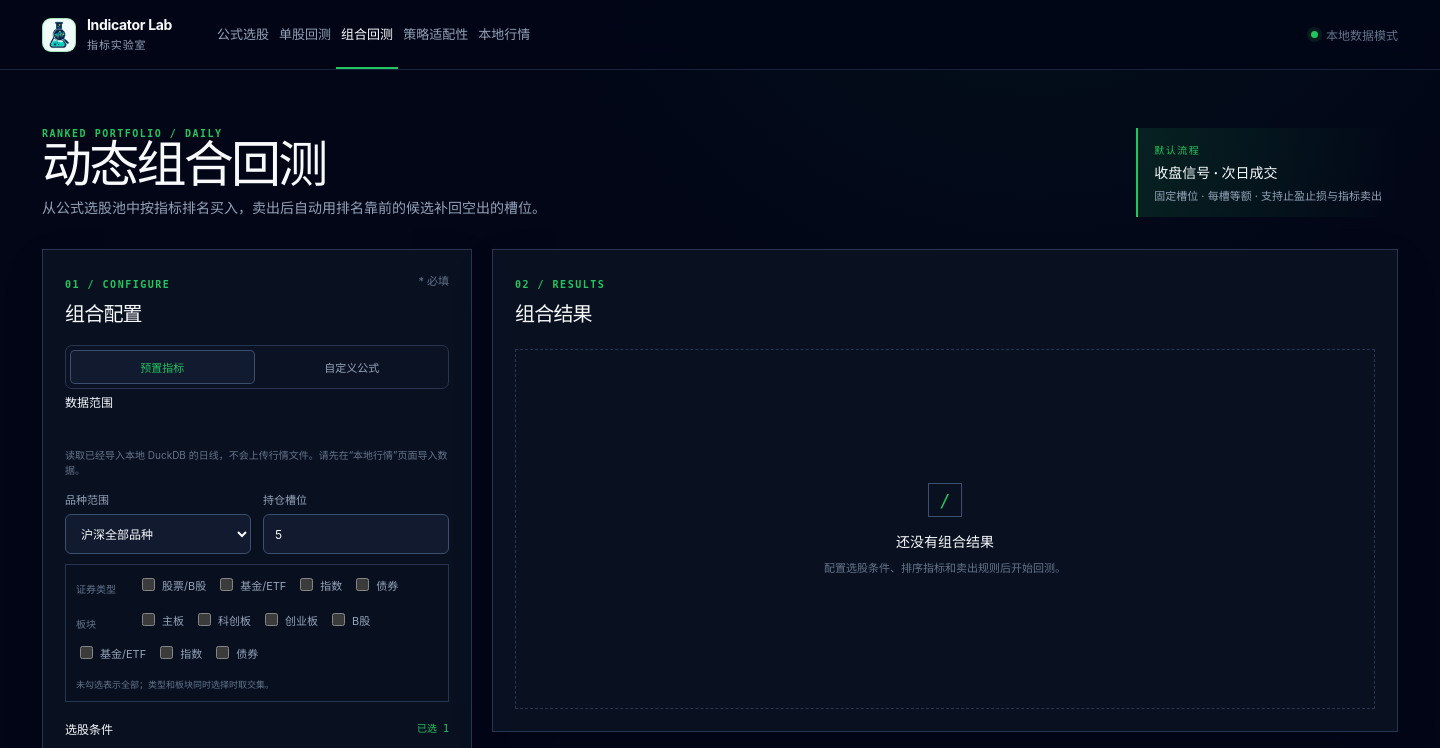
Test: PortfolioBacktestPage › parses custom formula outputs and invalidates selections after editing
Click the tab with test id "portfolio-mode-custom" at coordinates (352, 367), box [260,350,444,384]
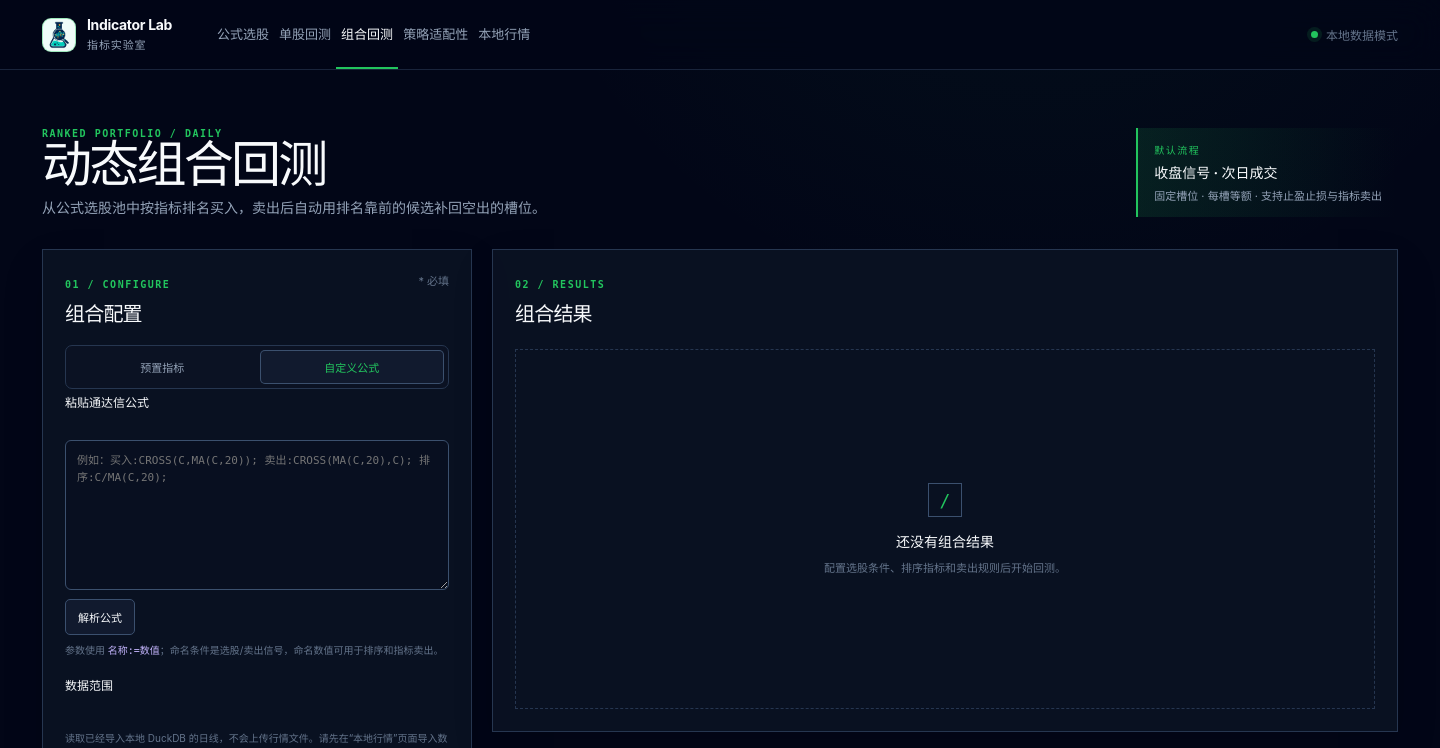
Replace the text in the text box with test id "portfolio-formula" with "N:=5; 买入:C>10; 卖出:C<10; 排序:C;" at coordinates (257, 515), box [65,440,449,590]
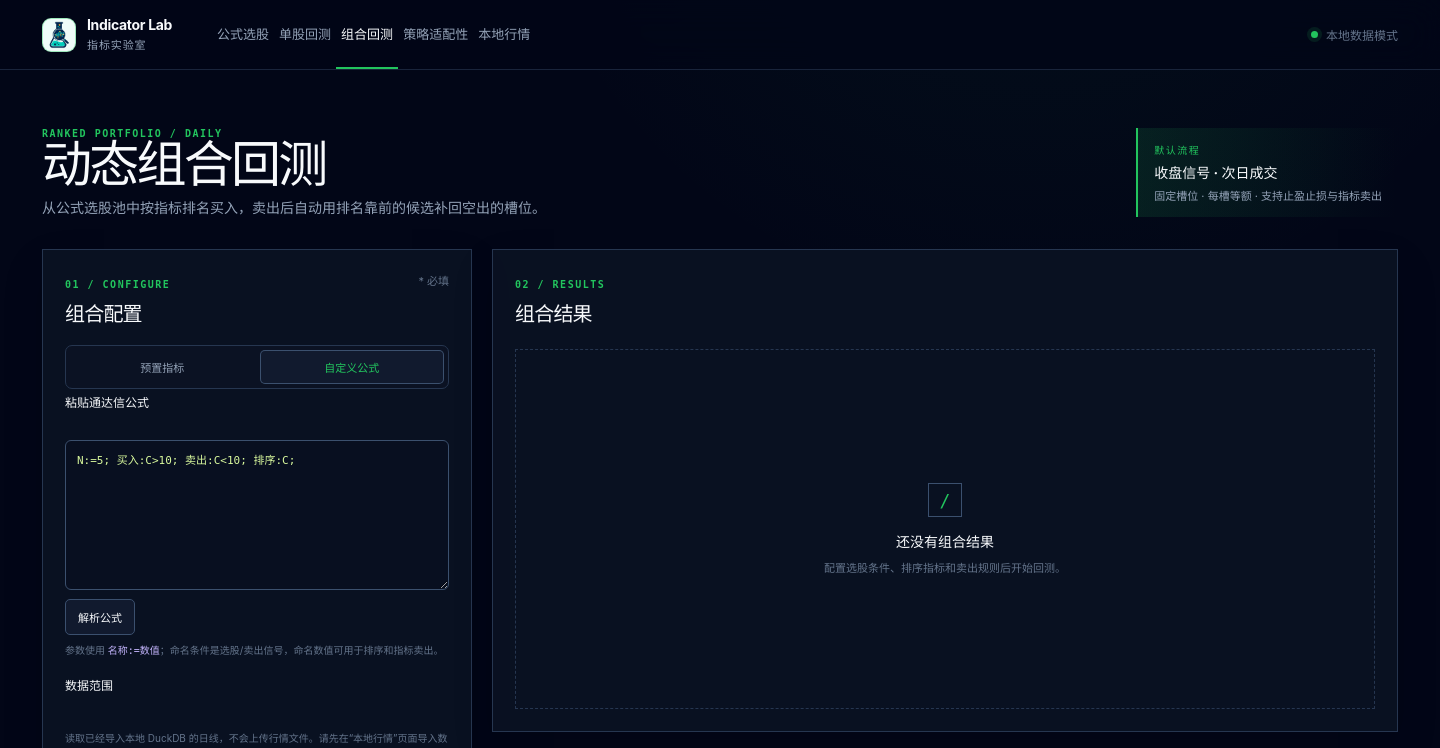
Click the button with test id "portfolio-parse-formula" at coordinates (100, 617), box [65,599,135,635]
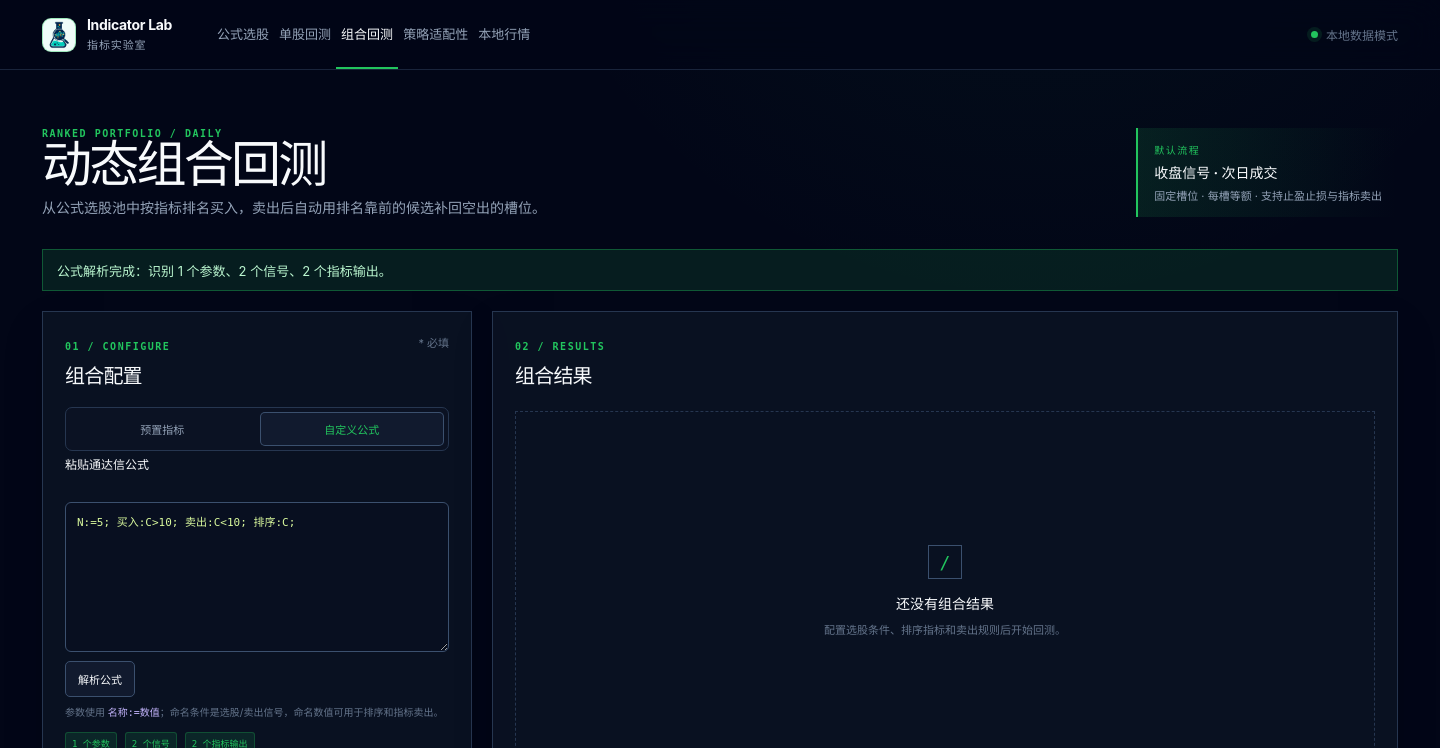
Replace the text in the text box with test id "portfolio-formula" with "N:=8; 买入:C>10; 卖出:C<10; 排序:C;" at coordinates (257, 577), box [65,502,449,652]
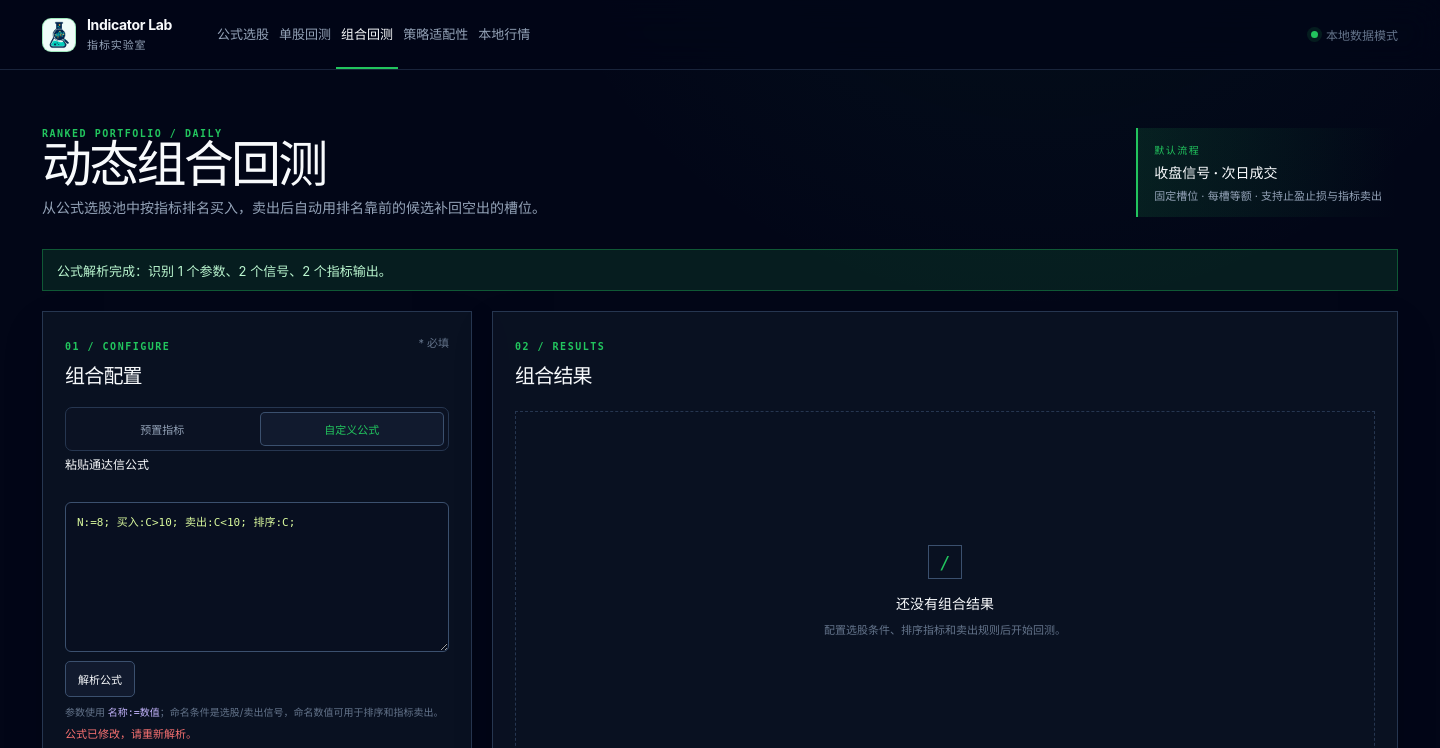
Result: the text "公式已修改，请重新解析" is shown at [65,727,197,741]
Click the tab with test id "portfolio-mode-preset" at coordinates (162, 429), box [70,412,254,446]
(page scrolled)
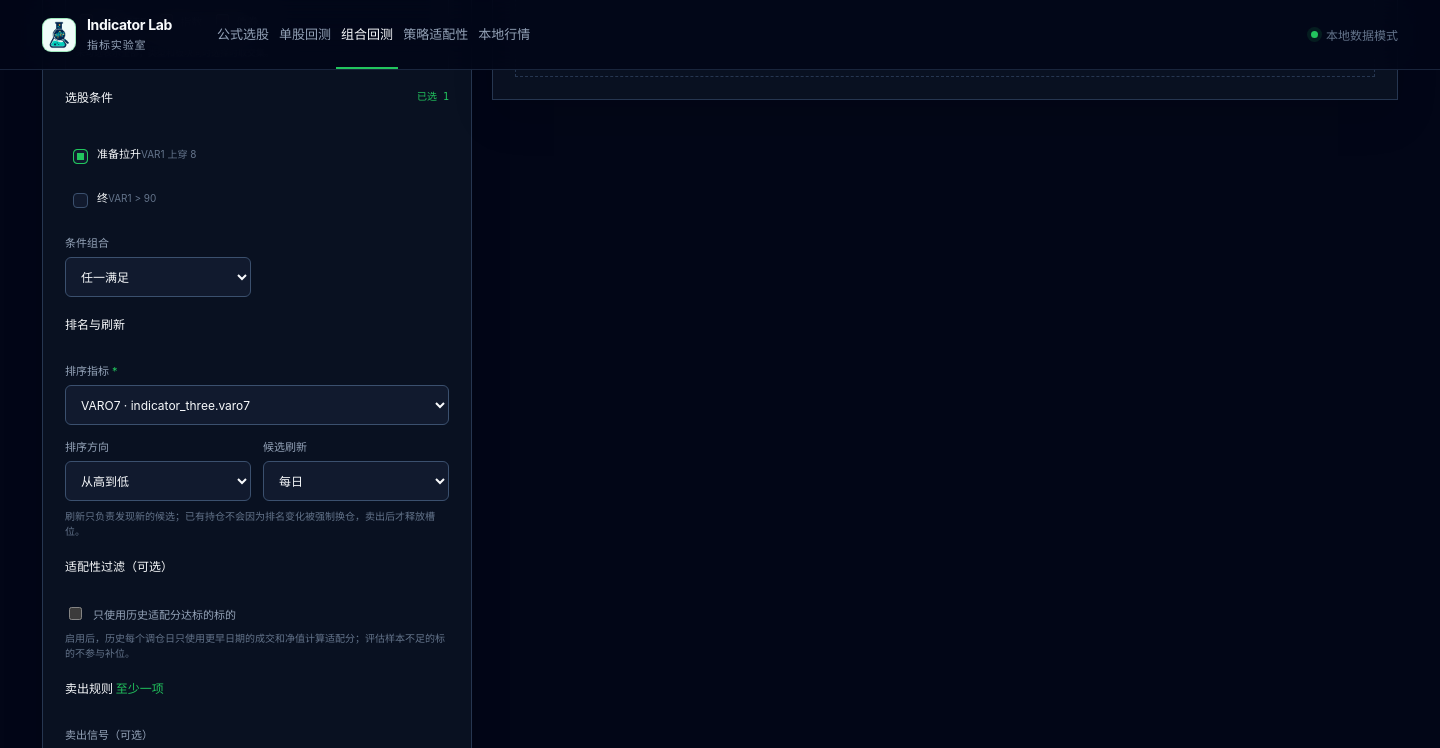
Result: the dropdown with test id "portfolio-ranking-value" shows "VARO7 · indicator_three.varo7" at [65,385,449,425]
